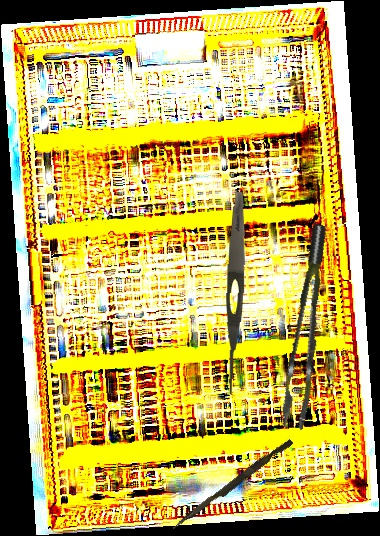Dressing Forceps: (222, 191, 249, 395)
Pusher: (171, 435, 294, 535)
Tissue Forceps: (261, 223, 355, 432)
